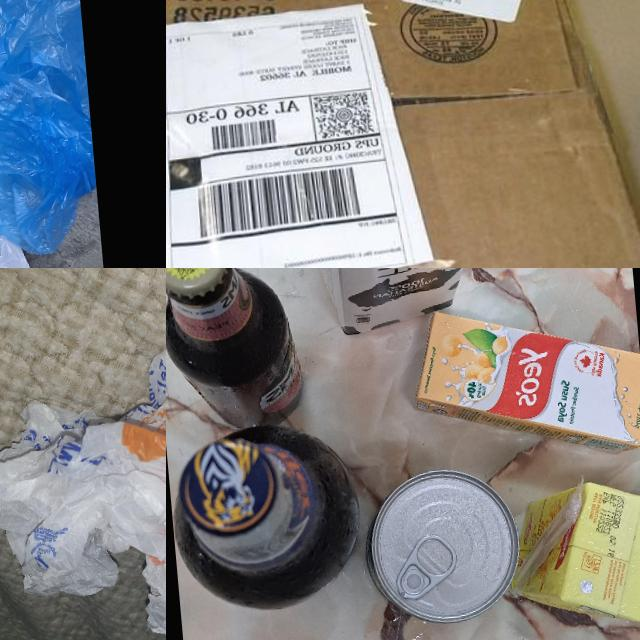aba de lata: (396, 530, 460, 600)
caixinha: (407, 291, 640, 469), (360, 463, 524, 633), (501, 475, 640, 630), (284, 268, 508, 334)
garrafa de vidro: (166, 416, 367, 613), (166, 268, 305, 430)
papelão: (166, 0, 640, 268)
sacola plástica: (0, 307, 166, 640), (0, 0, 101, 268), (0, 186, 113, 268)
